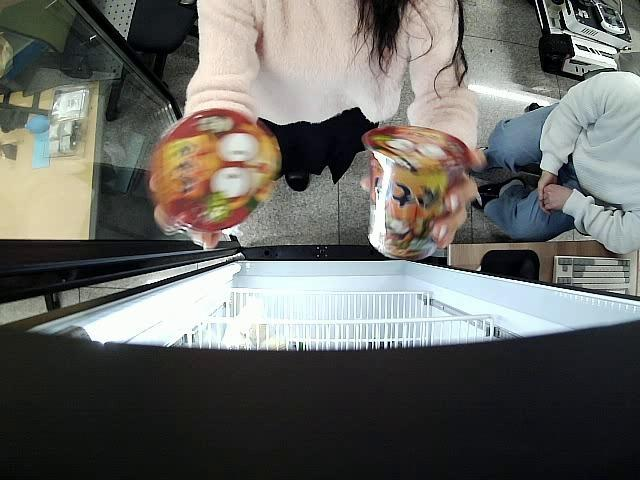06_nuguri_S: (150, 108, 281, 232), (361, 124, 468, 263)
